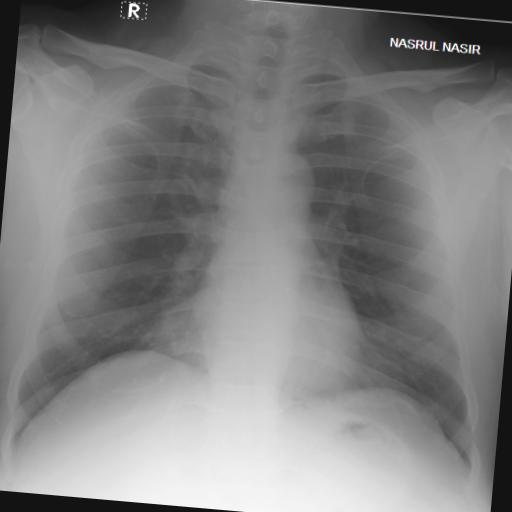normal: (0, 21, 512, 499)
